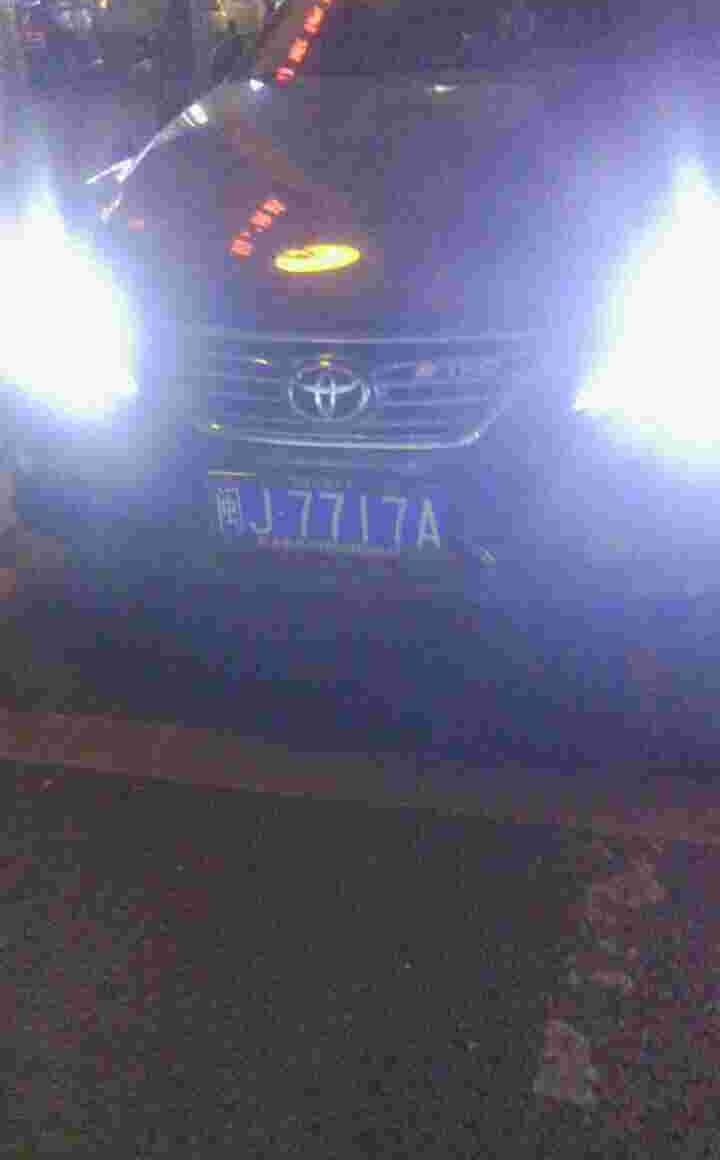car: (205, 462, 450, 561)
